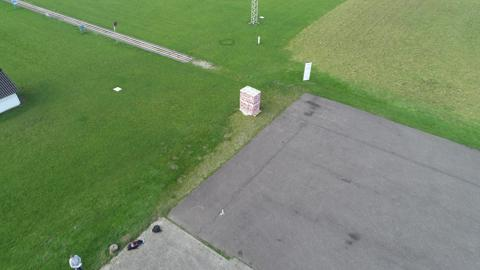RockwoolPallet: (239, 85, 262, 117)
